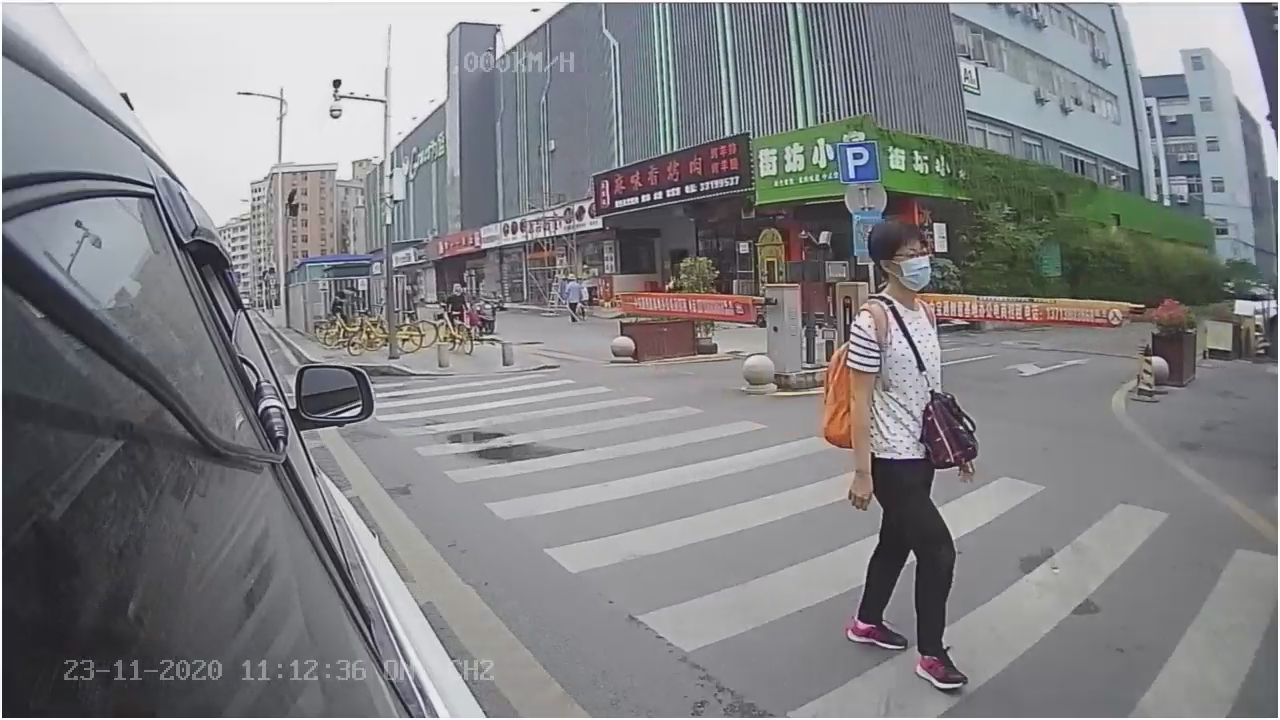person: (827, 215, 990, 694)
